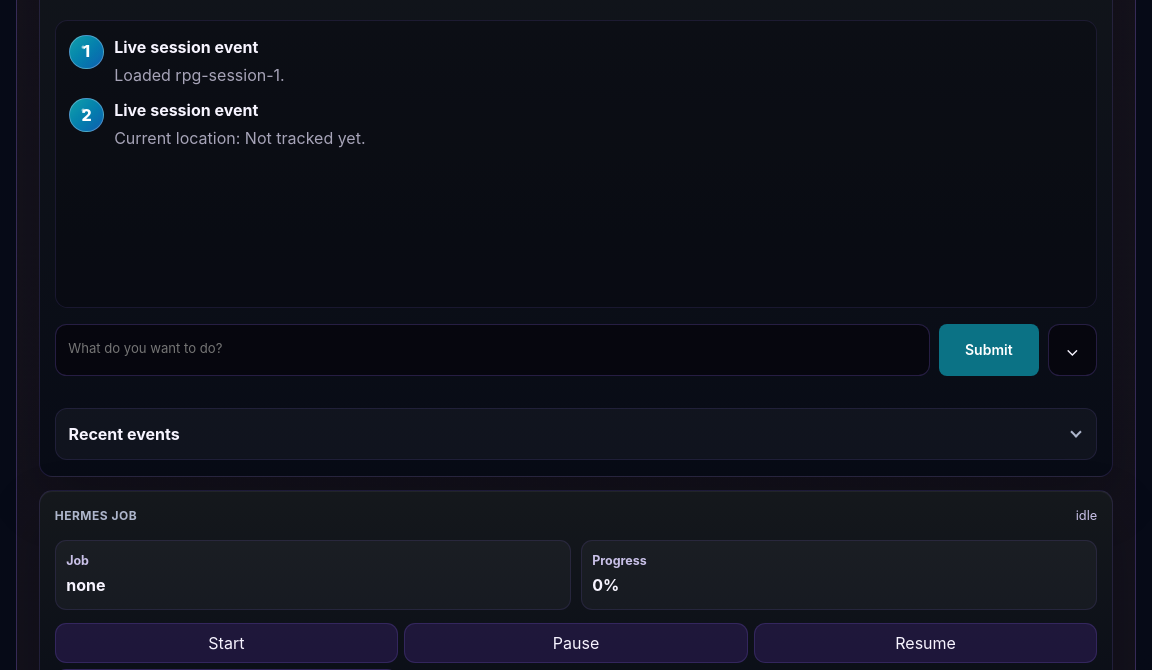
Test: RpgWorkspace › renders the submitted RPG turn from the direct job poll when the job list is stale
The image size is (1152, 670).
(page scrolled)
Check: the dropdown named "Session" shows "rpg-session-1", box [1048,324,1097,376]
Type "Ask Bran how business is going." into the text box named "Command" at (492, 350), box [55,324,930,376]
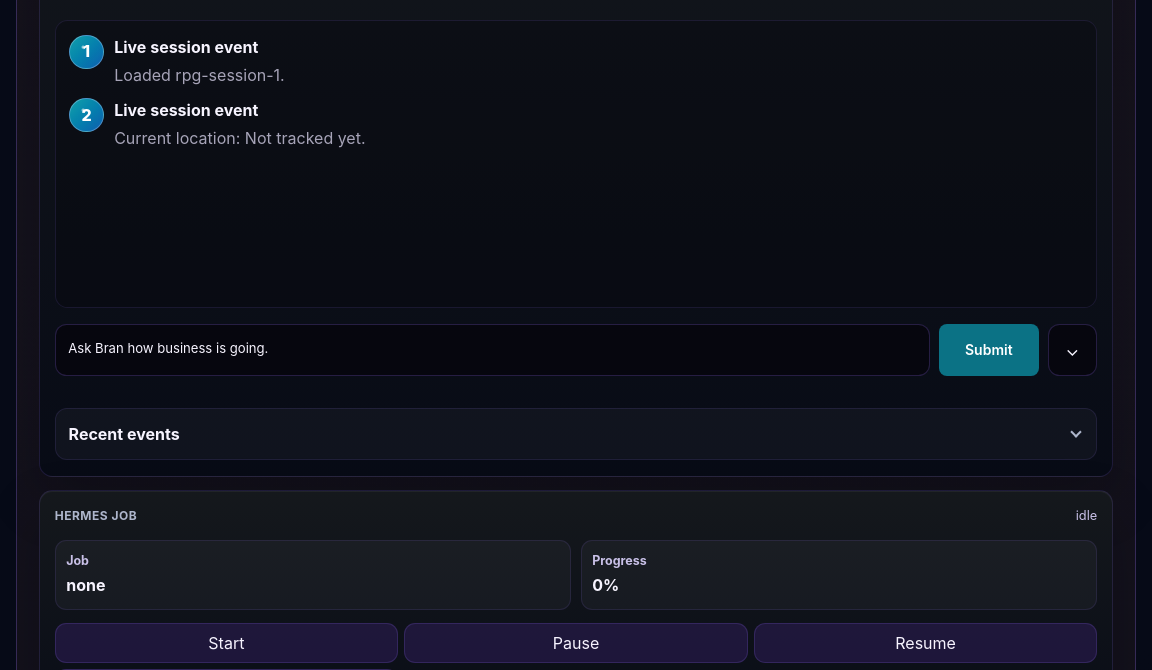
Click the button with aria-label "Queue RPG turn" at (989, 350), box [939,324,1039,376]
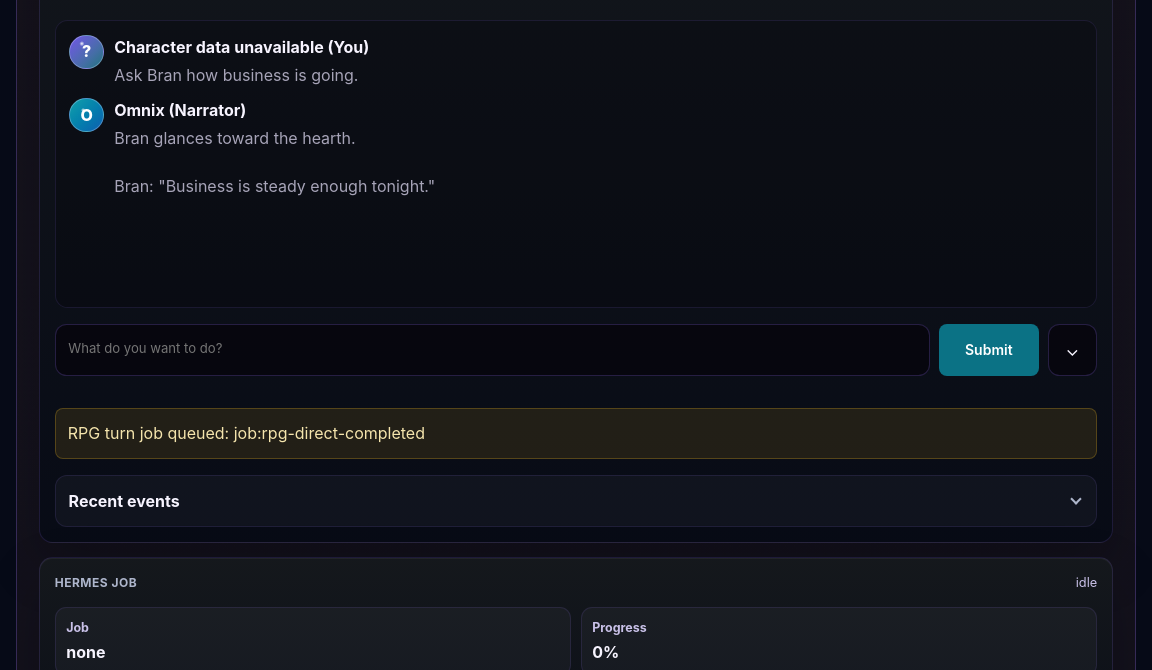
Check: the text "Ask Bran how business is going." is shown, box [114,65,358,85]
Check: the text "Business is steady enough tonight" is shown, box [114,128,435,196]
